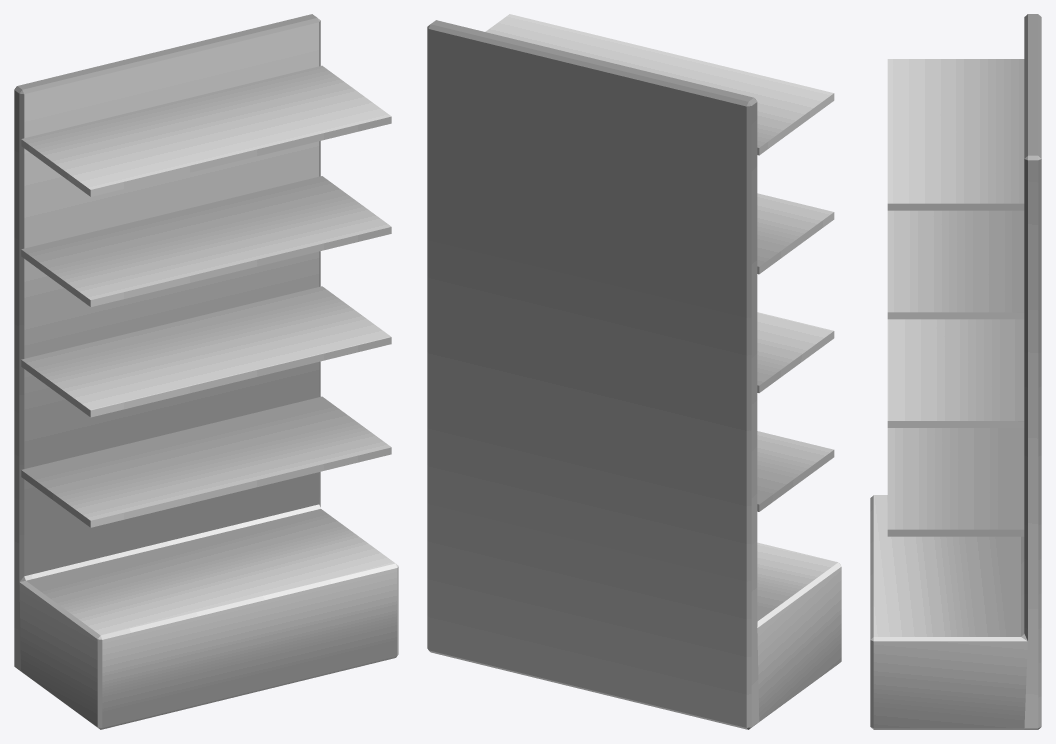
The model's file is etagere.glb.
The picture shows the model from 3 angles, left to right: view 1: azimuth 30°, elevation 25°; view 2: azimuth 150°, elevation 25°; view 3: azimuth 270°, elevation 25°; orthographic projection. The views are drawn at different scales.
Parts seen in each view (by area): view 1: Cube.002; view 2: Cube.002; view 3: Cube.002.
Boxes of the visible parts, box(x1,y1,x2,y2) form: Cube.002: box(14, 14, 398, 729); Cube.002: box(427, 14, 841, 729); Cube.002: box(870, 14, 1041, 729).
Bounding box in the file's own units: 2 × 3.7 × 1.
1 material, 1 textured.
